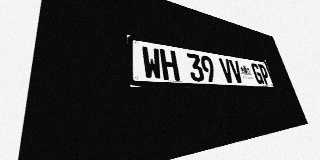3: (186, 53, 205, 82)
9: (199, 55, 217, 82)
G: (250, 63, 264, 84)
H: (159, 49, 180, 81)
P: (258, 64, 271, 84)
V: (218, 58, 235, 83), (229, 59, 244, 83)
W: (141, 46, 163, 80)
